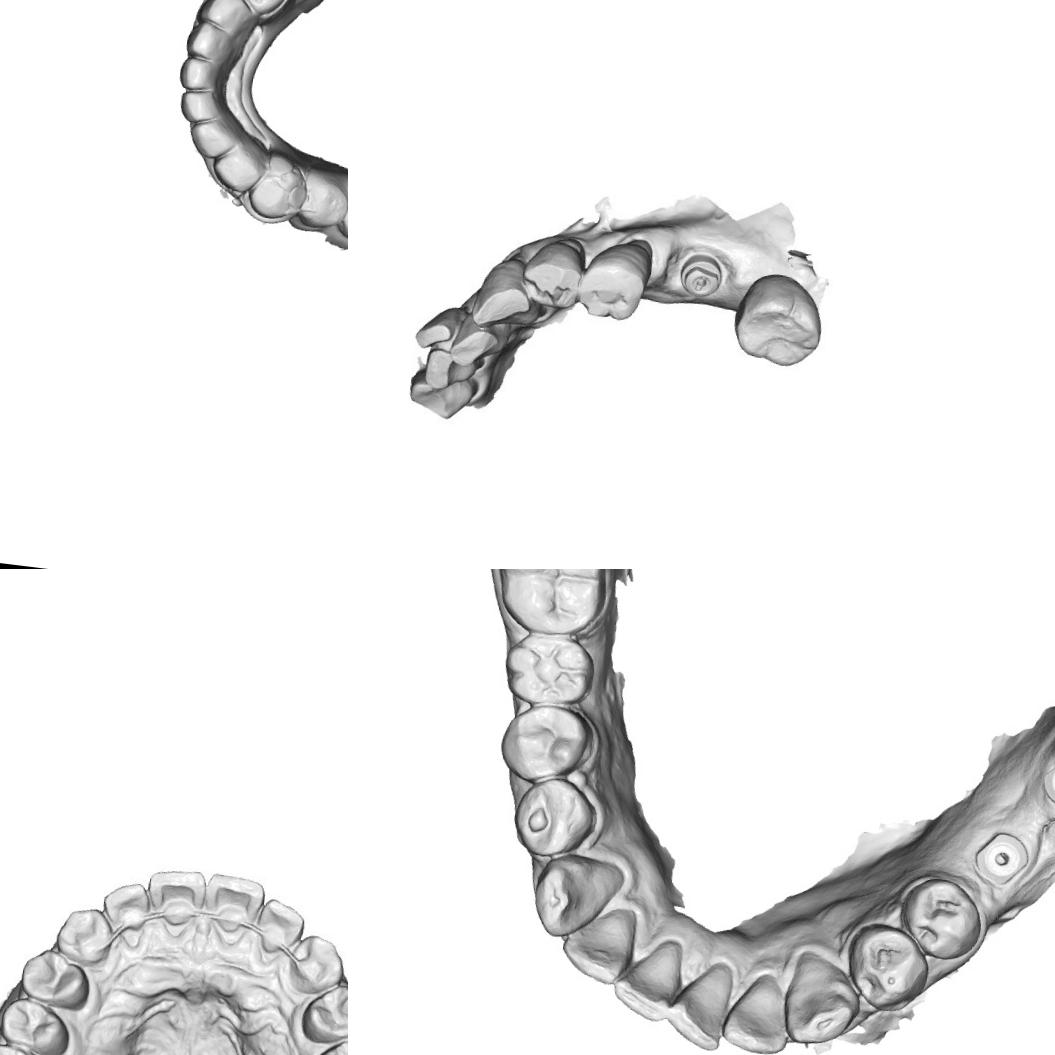canine: (526, 847, 624, 946), (782, 947, 866, 1054), (472, 256, 534, 335), (286, 934, 344, 992), (53, 905, 112, 962), (208, 141, 260, 194), (194, 0, 260, 39)
implant: (970, 824, 1034, 890), (1037, 745, 1055, 813)
implant_minus: (670, 239, 732, 312)
incisor: (557, 900, 640, 990), (606, 940, 686, 1027), (664, 958, 734, 1053), (720, 969, 796, 1055), (398, 370, 492, 426), (201, 869, 265, 937), (447, 307, 506, 372), (146, 867, 206, 927), (420, 347, 490, 396), (253, 897, 308, 958), (101, 878, 155, 933), (187, 119, 236, 162), (406, 312, 456, 354), (184, 18, 233, 60), (176, 87, 223, 125), (176, 56, 219, 92)
molar: (485, 569, 615, 644), (734, 270, 825, 369), (496, 626, 599, 713)
premolar: (843, 919, 936, 1014), (892, 871, 984, 963), (495, 704, 596, 784), (508, 775, 598, 862), (579, 235, 658, 318), (524, 239, 592, 322), (20, 952, 98, 1014), (0, 996, 81, 1055), (244, 158, 306, 224), (300, 168, 348, 230), (301, 982, 348, 1045), (222, 0, 301, 27)
